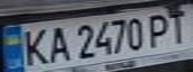0: (124, 15, 148, 52)
2: (72, 20, 96, 61)
4: (93, 19, 115, 56)
7: (109, 16, 130, 54)
A: (45, 22, 72, 64)
K: (18, 25, 51, 68)
P: (142, 11, 175, 48)
T: (163, 8, 193, 44)
